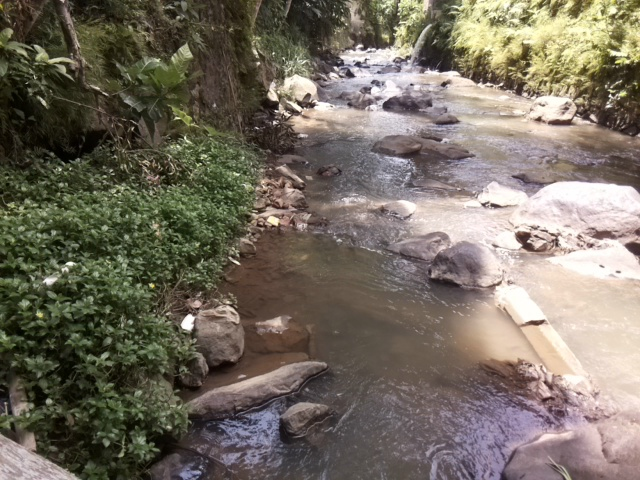Sampah_Styrofoam: (179, 312, 195, 330)
